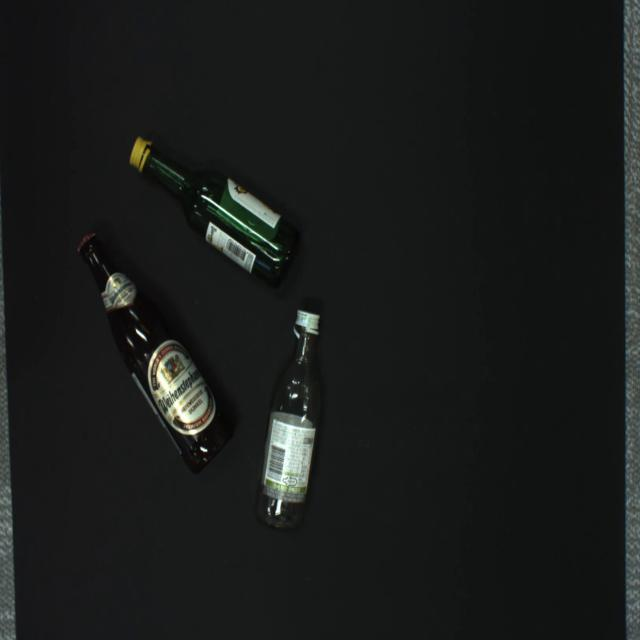beer-bottle: (77, 232, 234, 476)
soju-bottle: (130, 137, 300, 289), (255, 309, 321, 532)
